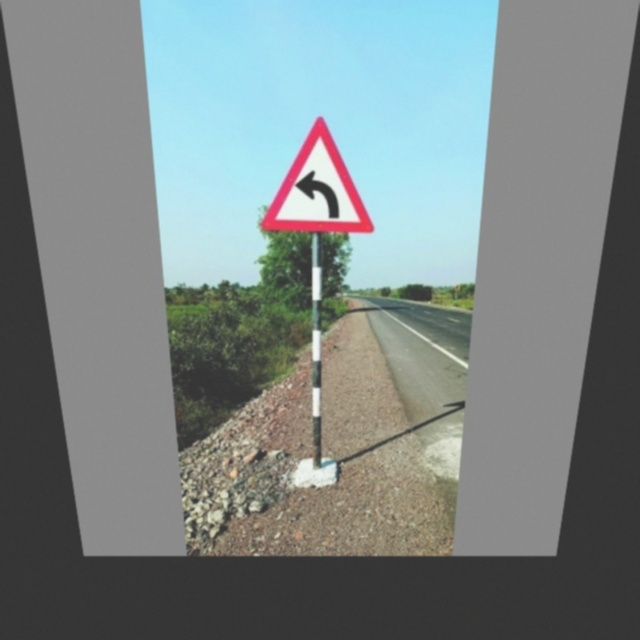Left_Hand_Curve: (264, 112, 373, 239)
